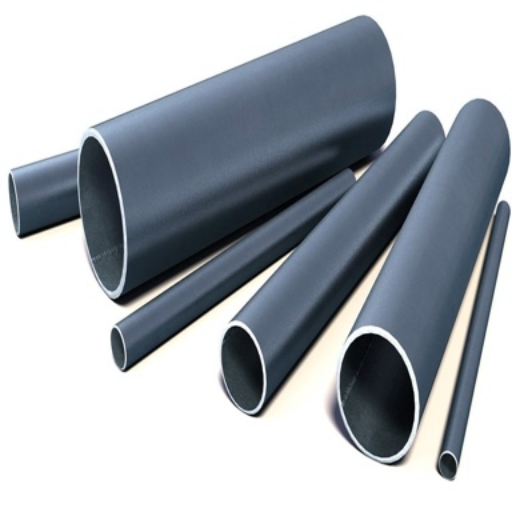Circle: (343, 332, 419, 459), (77, 131, 127, 292), (218, 324, 264, 415), (4, 174, 17, 223), (107, 330, 124, 367), (439, 452, 456, 476)
